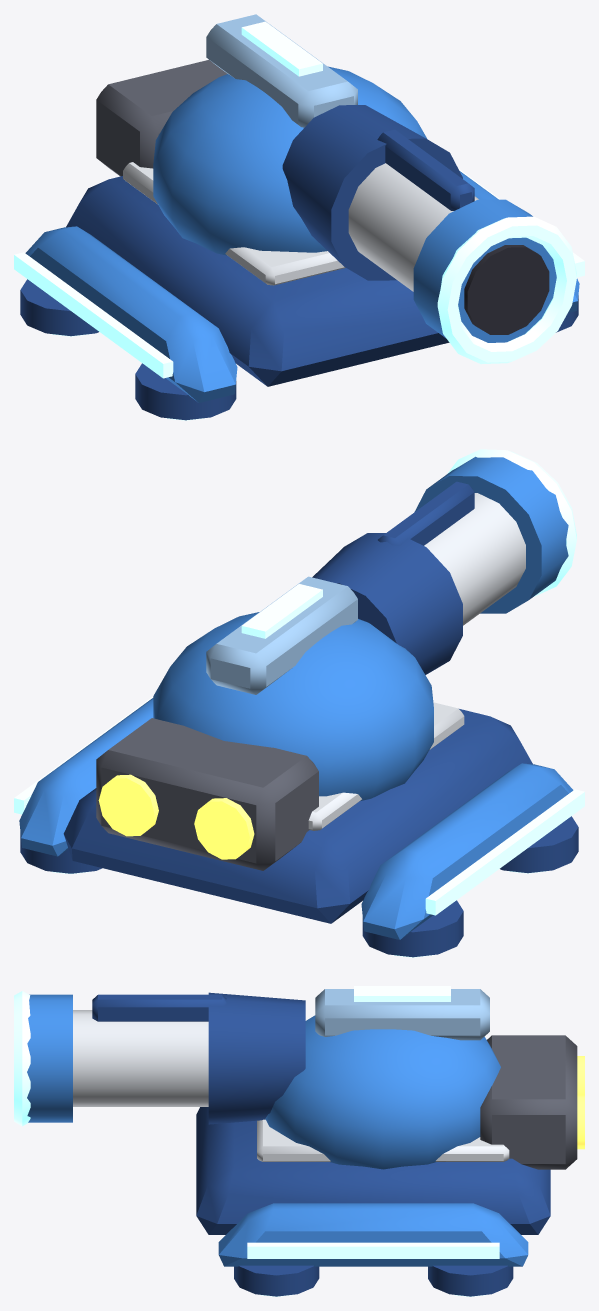
The model's file is cannon.glb.
3 renders of one model, top to bottom at view 1: azimuth 30°, elevation 25°; view 2: azimuth 150°, elevation 25°; view 3: azimuth 270°, elevation 25°, orthographic. The views are drawn at different scales.
Visible parts, largest first — view 1: base, barrel, turret; view 2: base, turret, barrel; view 3: base, barrel, turret.
Part boxes in pixels (left/top/right/bottom): base: left=14, top=60, right=584, bottom=420; barrel: left=282, top=105, right=576, bottom=364; turret: left=153, top=14, right=427, bottom=255; base: left=14, top=696, right=584, bottom=957; turret: left=153, top=576, right=433, bottom=800; barrel: left=312, top=449, right=576, bottom=674; base: left=196, top=1035, right=584, bottom=1296; barrel: left=14, top=991, right=305, bottom=1126; turret: left=265, top=986, right=500, bottom=1169.
Size of the model in its own units: 2.16 by 1.26 by 2.94.
